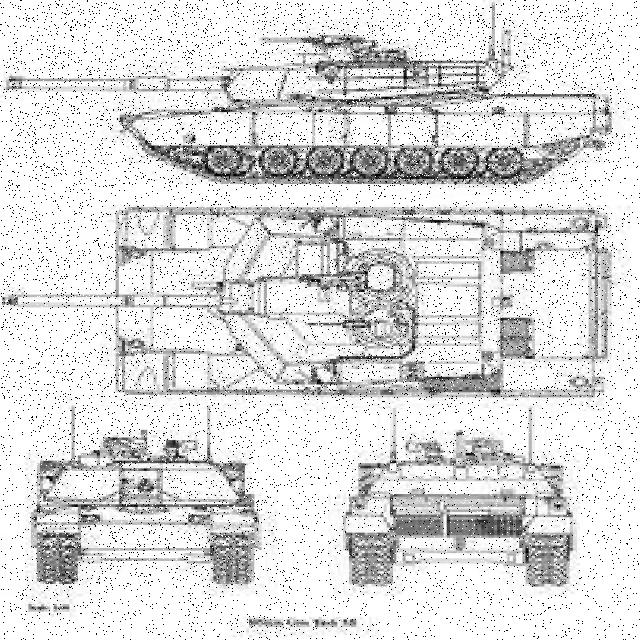MIL_MBT: (2, 206, 609, 400), (8, 2, 613, 187), (344, 408, 576, 589), (31, 406, 258, 587)
